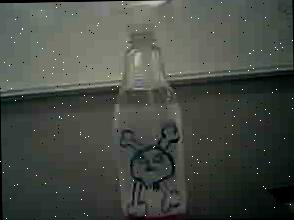hazard: (102, 0, 207, 220)
